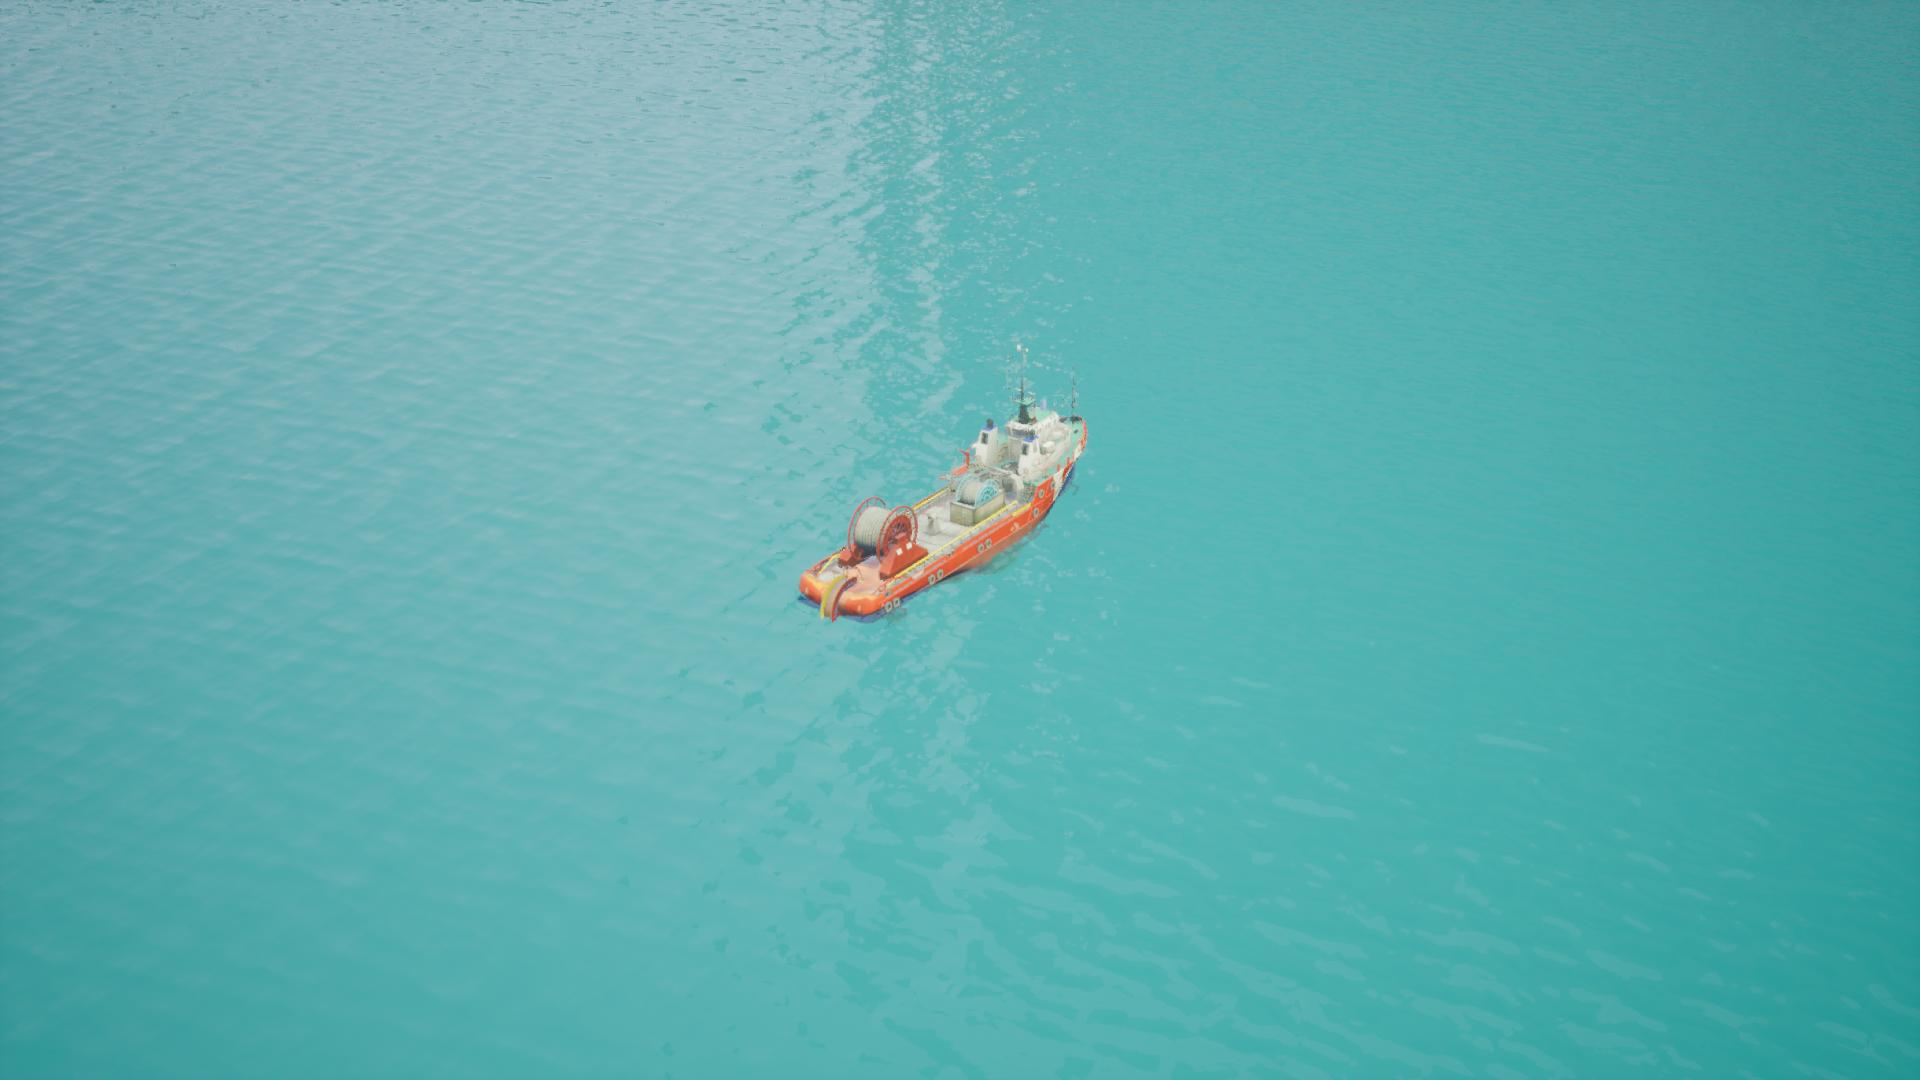Tug Boat: (852, 398, 1091, 611)
